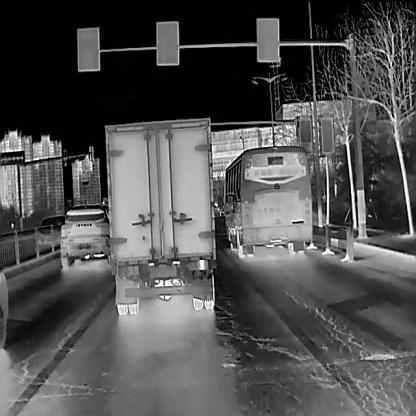bus: (216, 145, 312, 256)
car: (59, 202, 110, 268), (34, 214, 67, 248)
truck: (103, 116, 216, 315)
